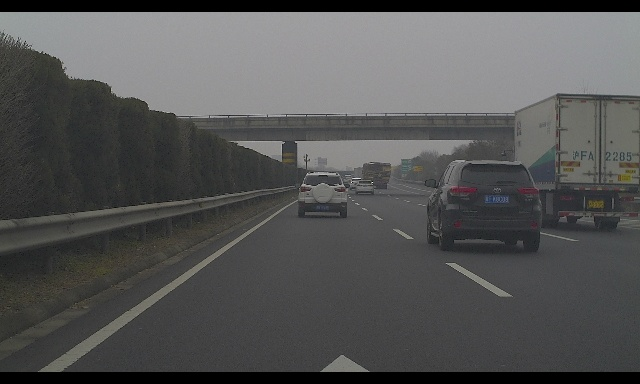car: (424, 159, 543, 251), (295, 171, 350, 218), (354, 180, 374, 195), (349, 178, 362, 190), (345, 175, 352, 182), (341, 177, 348, 183)
truck: (501, 92, 640, 229), (361, 161, 391, 189), (354, 167, 367, 184)
